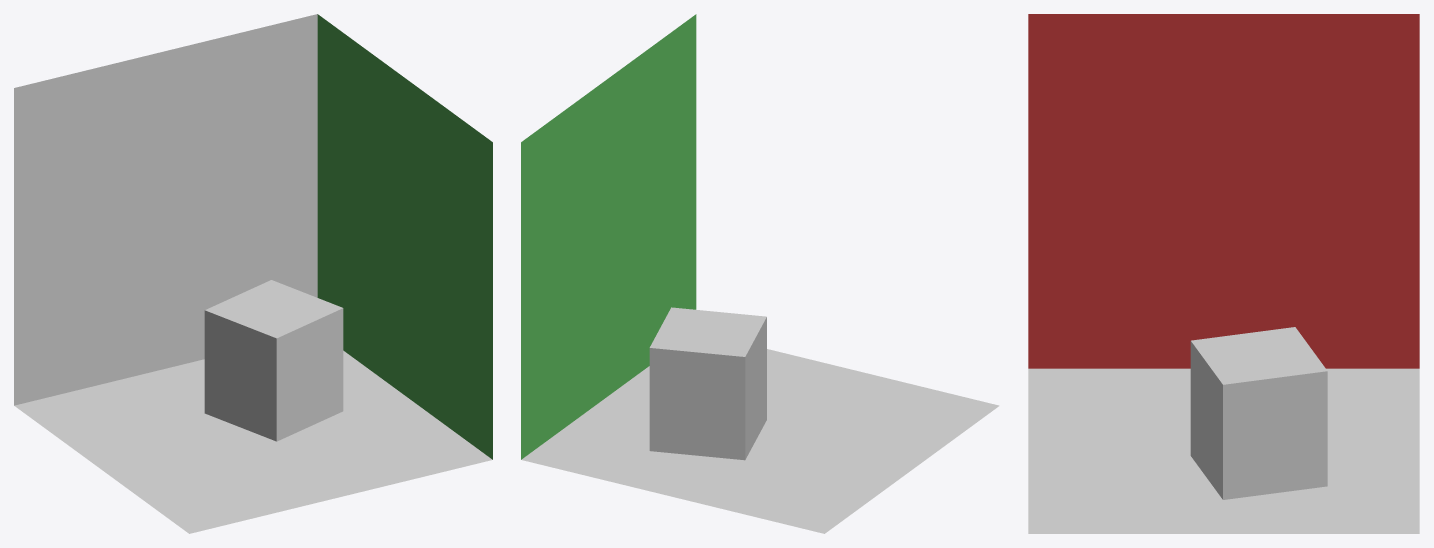
The model's file is CornellDiffuse.gltf.
3 renders of one model, left to right at view 1: azimuth 30°, elevation 25°; view 2: azimuth 150°, elevation 25°; view 3: azimuth 270°, elevation 25°, orthographic. The views are drawn at different scales.
Parts seen in each view (by area): view 1: Cornell diffuse room; view 2: Cornell diffuse room; view 3: Cornell diffuse room.
Part boxes in pixels (<box>): Cornell diffuse room: <box>14,14,492,533</box>; Cornell diffuse room: <box>521,14,999,533</box>; Cornell diffuse room: <box>1028,14,1419,533</box>.
Size of the model in its own units: 2 by 2 by 2.
